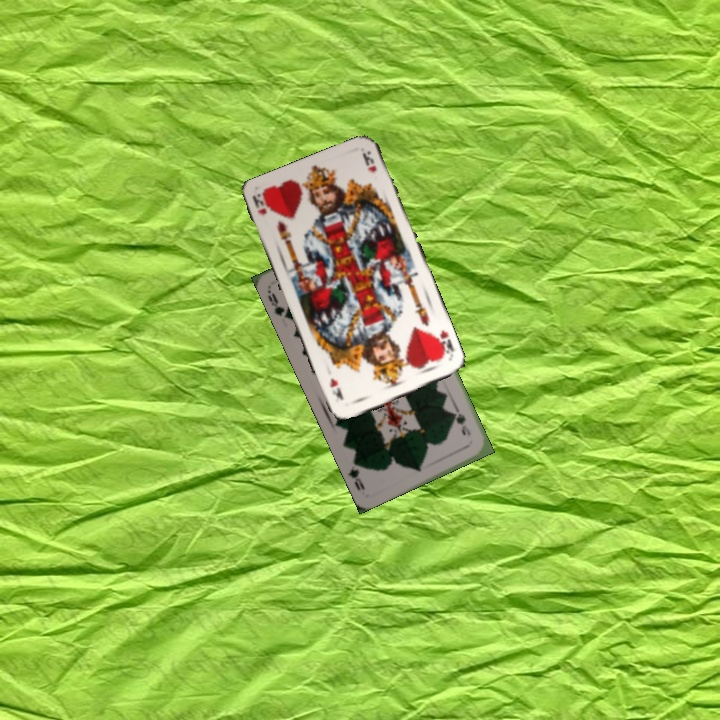G9: (264, 286, 293, 321), (450, 406, 473, 438)
HK: (430, 325, 457, 362), (248, 191, 270, 218)
